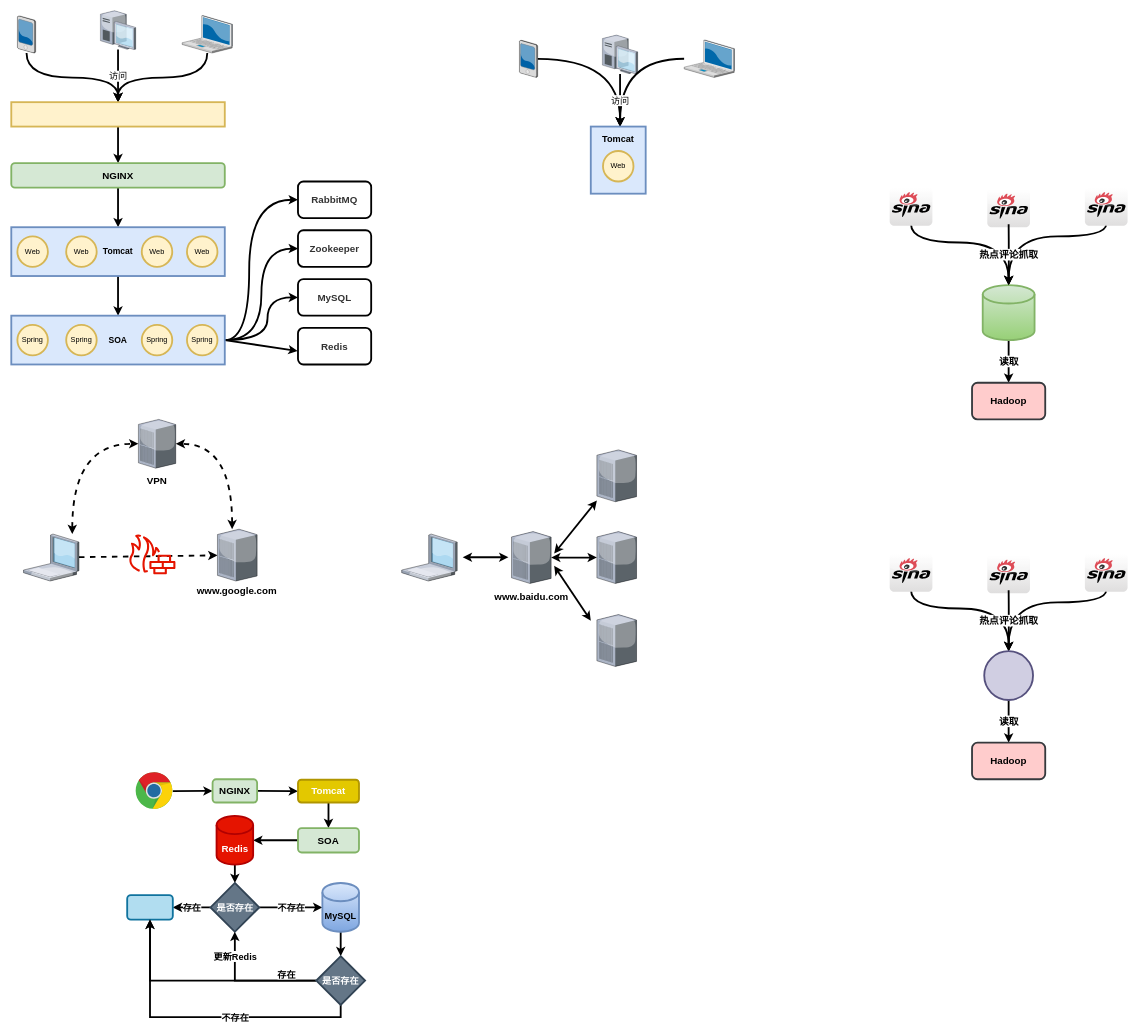
Some shapes in this 1139 by 1033 pixel diagram are drawn without their labels. The centre of each missing label's shape, as x and y in pixels:
"Kafka" goes at point (1008, 675).
"MongoDB" goes at point (1008, 312).
"负载均衡器" goes at point (117, 114).
"返回" goes at point (149, 907).
